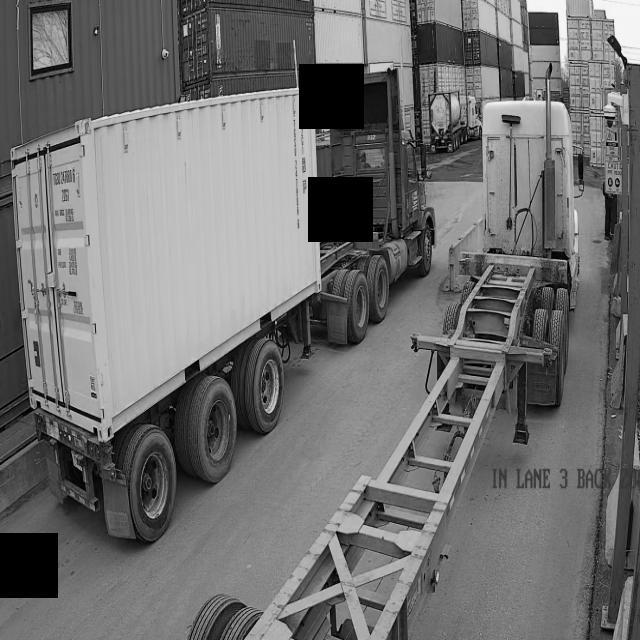company_logo: (406, 184, 421, 220)
container_number: (51, 164, 94, 326), (283, 101, 312, 240)
license_plate: (0, 0, 620, 189), (67, 446, 86, 476)
truck_with_container: (11, 73, 436, 542)
truck_without_container: (230, 100, 580, 640)
